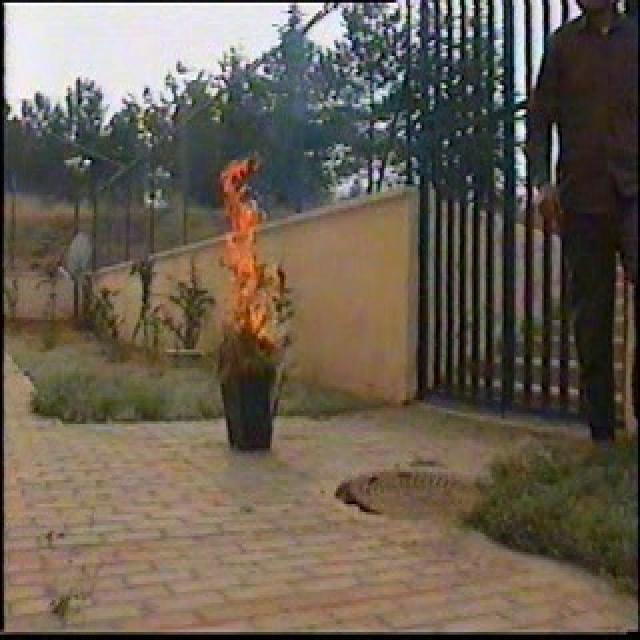Fire: (214, 155, 256, 323)
